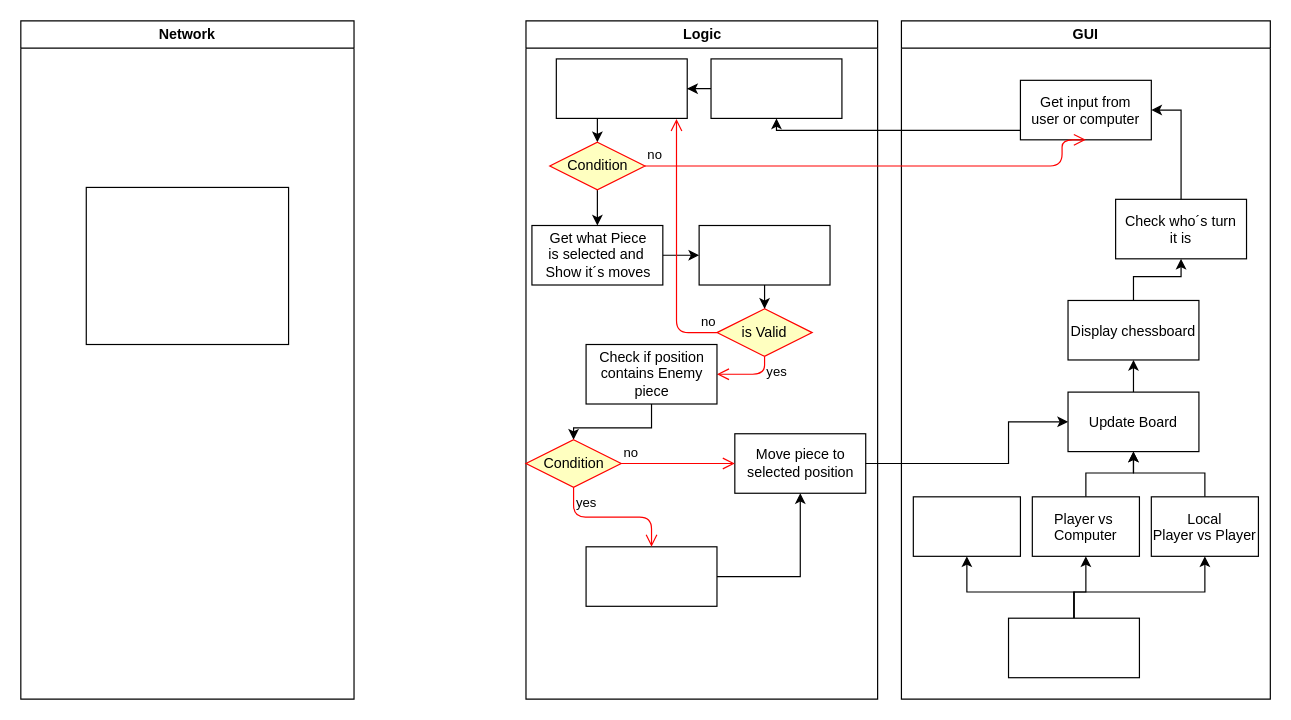
The diagram is 1291 pixels wide and 720 high, and some of its shapes have lost their labels. The box of each missing label's shape, as (x1, y1, x2, y2) in pixels:
Capture enemy Piece: (585, 546, 717, 606)
Check if cell contains a Piece or not: (555, 58, 687, 118)
Check if player chose a valid move: (698, 224, 830, 285)
Check what cell the user pressed: (710, 58, 842, 118)
Online Player vs Player: (912, 496, 1020, 556)
Start: (1007, 617, 1139, 678)
WILL BE UPDATED: (85, 186, 289, 345)
